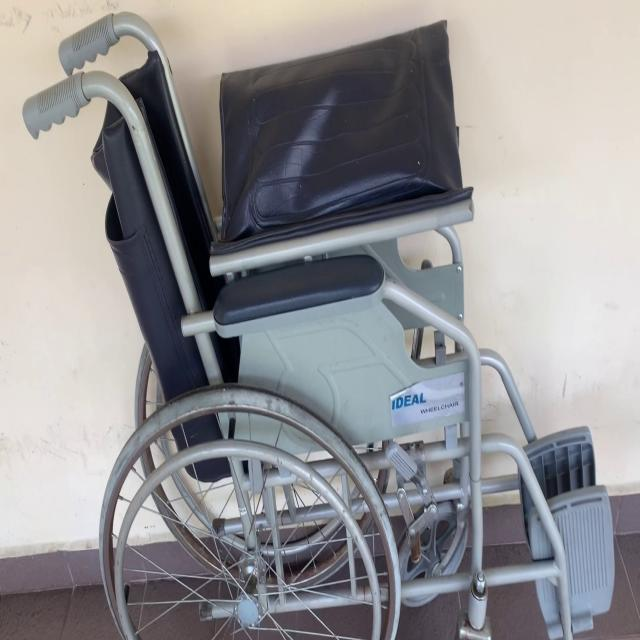wheelchair: (16, 4, 622, 638)
